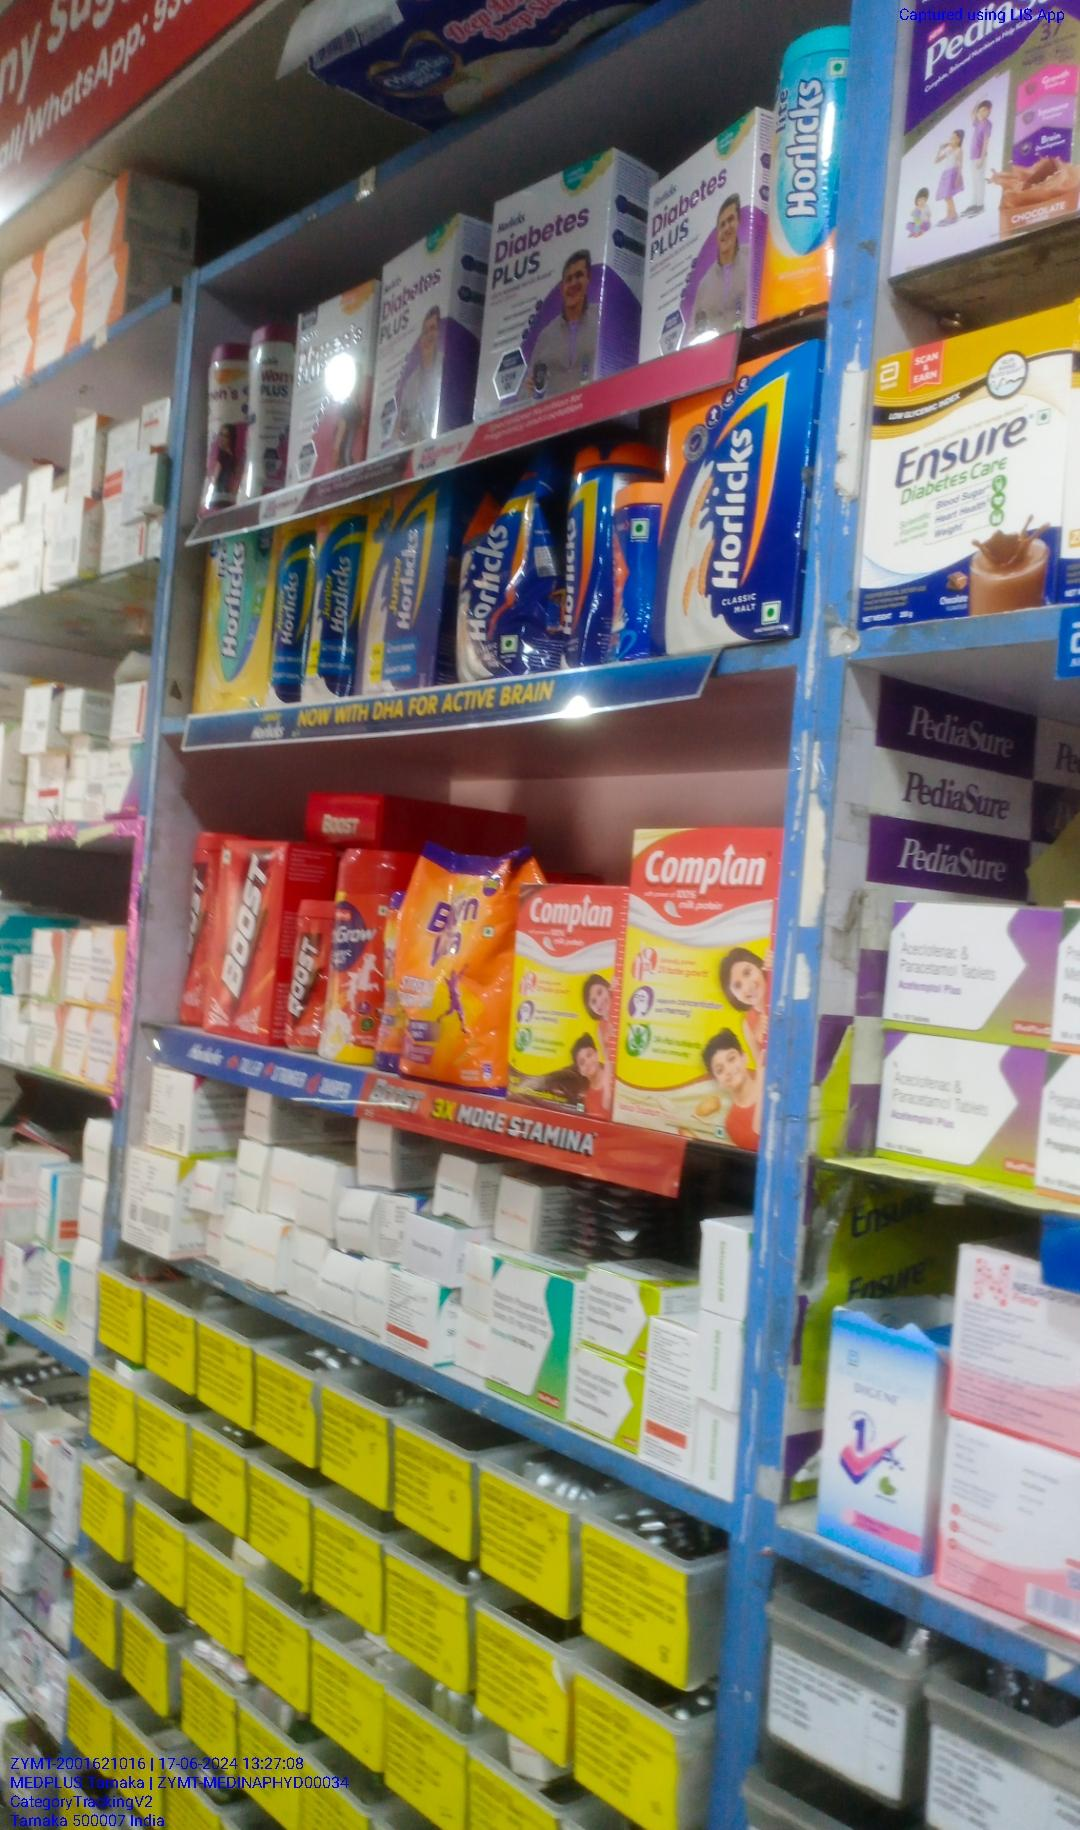COMPLAN_CHOCOLATE_500_GMS_PACK: (510, 879, 618, 1123)
COMPLAN_KESAR_BADAM_500_GMS_PACK: (622, 826, 766, 1139)
HORLICKS_LITE_REGULAR_MALT_500_GM_JAR: (759, 23, 837, 320)
HORLICK_CLASSIC_MALT_500_G_PACK: (661, 355, 807, 645)
